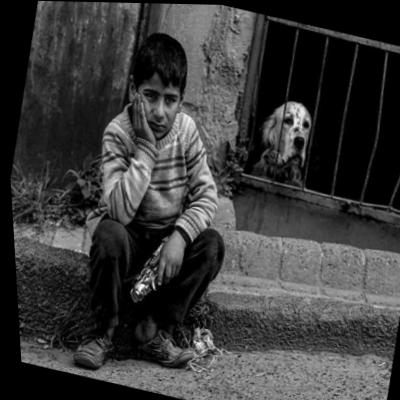sad: (129, 70, 183, 138)
